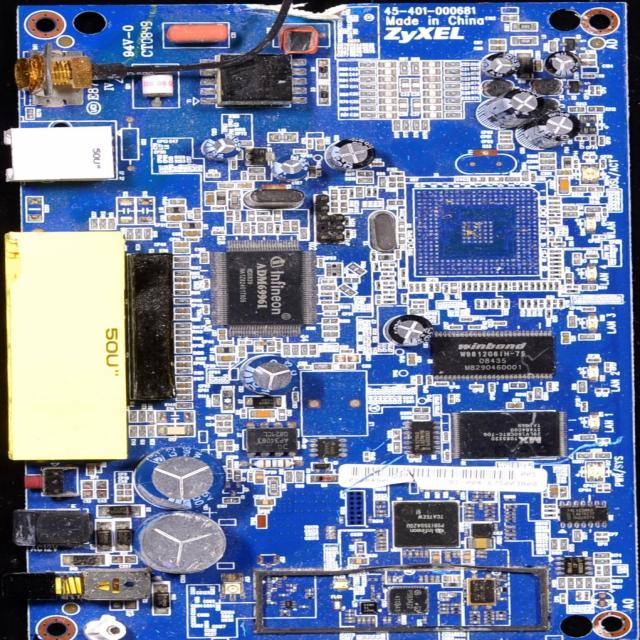Capacitor Jumper: (136, 444, 231, 509), (142, 512, 227, 573), (241, 356, 303, 398), (384, 312, 434, 348), (501, 89, 546, 121), (540, 112, 584, 136), (485, 51, 521, 77), (546, 52, 580, 77), (26, 197, 46, 224), (157, 411, 195, 424), (138, 197, 156, 224), (118, 197, 136, 224), (155, 425, 195, 436), (80, 479, 94, 499), (95, 479, 109, 498), (556, 177, 571, 194), (249, 409, 276, 418), (590, 164, 600, 185), (110, 556, 139, 563), (581, 164, 590, 185), (398, 97, 410, 111), (462, 550, 473, 565), (254, 470, 265, 484), (255, 499, 277, 506), (431, 550, 442, 564), (410, 97, 421, 111), (180, 230, 202, 237), (399, 61, 409, 76), (216, 355, 237, 362), (316, 234, 332, 243), (400, 79, 411, 92), (115, 496, 135, 503), (411, 61, 421, 75), (411, 77, 421, 91), (114, 489, 133, 496), (422, 104, 444, 110), (332, 221, 344, 232), (254, 341, 276, 347), (144, 227, 154, 240), (86, 462, 95, 476), (549, 484, 558, 498), (377, 98, 398, 104), (206, 191, 215, 205), (334, 354, 348, 363), (347, 354, 361, 363), (318, 222, 329, 233), (348, 558, 368, 564), (422, 62, 442, 68), (422, 68, 442, 74), (422, 76, 442, 82), (422, 90, 442, 96), (378, 90, 398, 96), (378, 112, 398, 118), (538, 159, 558, 165), (354, 186, 364, 198), (172, 307, 192, 313), (378, 76, 397, 82), (378, 83, 397, 89), (175, 388, 194, 394), (580, 53, 596, 60), (534, 59, 542, 73), (376, 105, 398, 110), (421, 112, 443, 117), (218, 328, 228, 339), (408, 354, 418, 365), (378, 62, 396, 68), (562, 332, 571, 344), (174, 361, 192, 367), (421, 98, 442, 103), (511, 382, 526, 389), (28, 107, 36, 120), (317, 195, 330, 203), (489, 45, 506, 51), (581, 60, 598, 66), (502, 15, 519, 21), (218, 183, 235, 189), (388, 200, 405, 206), (174, 278, 191, 284), (489, 39, 506, 45), (318, 213, 329, 222), (331, 215, 345, 222), (600, 158, 608, 170), (556, 170, 572, 176), (379, 176, 387, 188), (340, 188, 348, 200), (330, 201, 338, 213), (340, 202, 348, 214), (318, 204, 330, 212), (507, 402, 523, 408), (278, 408, 286, 420), (114, 484, 133, 489), (378, 69, 397, 74), (174, 383, 193, 388), (238, 182, 253, 188), (442, 574, 453, 582), (173, 242, 190, 247), (322, 305, 339, 310), (248, 210, 255, 222), (452, 574, 462, 582), (422, 84, 442, 88), (166, 216, 186, 220), (398, 234, 406, 244), (398, 221, 405, 232), (127, 229, 134, 240), (174, 342, 192, 346), (96, 463, 103, 473), (595, 532, 609, 537), (584, 590, 591, 600), (576, 591, 583, 601), (330, 190, 337, 200), (435, 283, 442, 293), (174, 284, 191, 288), (203, 304, 209, 315), (559, 594, 566, 603), (364, 451, 370, 461), (498, 134, 513, 138), (498, 139, 513, 143), (470, 385, 485, 389), (324, 536, 338, 540), (499, 130, 512, 134), (549, 196, 562, 200), (548, 201, 561, 205), (356, 616, 361, 626), (410, 282, 415, 292), (421, 283, 426, 293), (490, 382, 495, 392), (504, 533, 516, 537), (495, 614, 507, 618), (361, 616, 367, 624), (396, 616, 402, 624), (366, 616, 372, 624), (384, 263, 396, 267), (372, 616, 377, 625), (544, 504, 555, 508), (464, 514, 475, 518), (468, 611, 482, 614), (344, 620, 358, 623), (423, 616, 428, 624), (416, 283, 420, 293), (324, 532, 337, 535), (468, 621, 481, 624), (484, 503, 496, 506), (325, 526, 337, 529), (495, 617, 507, 620), (344, 620, 356, 623), (464, 511, 475, 514), (464, 518, 475, 521), (439, 607, 450, 610), (438, 611, 449, 614), (484, 518, 496, 520), (504, 526, 516, 528), (464, 507, 475, 509), (325, 529, 336, 531), (450, 604, 461, 606), (438, 604, 449, 606)
IC: (215, 246, 317, 336), (434, 332, 559, 380), (454, 409, 564, 456), (396, 502, 462, 546), (400, 419, 447, 457), (561, 501, 611, 528), (247, 428, 297, 454), (387, 586, 430, 613), (550, 556, 590, 576), (318, 438, 340, 457), (72, 554, 100, 566), (96, 529, 113, 548), (156, 592, 170, 608), (360, 601, 376, 614), (280, 600, 298, 608), (126, 601, 137, 610), (316, 464, 332, 469)
Resistor Jumper: (580, 114, 597, 134), (325, 263, 343, 278), (512, 22, 538, 31), (512, 36, 538, 45), (228, 190, 240, 209), (216, 345, 237, 354), (216, 190, 227, 206), (165, 206, 188, 213), (359, 112, 378, 119), (174, 376, 193, 383), (128, 425, 138, 438), (378, 254, 396, 261), (173, 262, 191, 269), (174, 347, 192, 354), (548, 40, 558, 52), (562, 156, 572, 168), (199, 252, 209, 264), (497, 143, 514, 150), (174, 270, 191, 277), (168, 198, 187, 204), (184, 223, 203, 229), (172, 298, 191, 304), (174, 334, 193, 340), (174, 368, 193, 374), (175, 402, 194, 408), (576, 453, 594, 459), (358, 69, 376, 75), (358, 76, 376, 82), (359, 84, 377, 90), (444, 90, 462, 96), (444, 98, 462, 104), (444, 105, 462, 111), (193, 208, 202, 220), (108, 218, 117, 230), (89, 218, 98, 230), (173, 256, 191, 262), (174, 290, 192, 296), (174, 314, 192, 320), (444, 68, 461, 74), (489, 176, 506, 182), (469, 176, 486, 182), (173, 248, 190, 254), (176, 395, 193, 401), (567, 577, 576, 588), (551, 539, 559, 551), (594, 576, 610, 582), (444, 61, 460, 67), (588, 106, 604, 112), (520, 170, 528, 182), (99, 218, 107, 230), (138, 411, 146, 423), (138, 426, 146, 438), (358, 62, 377, 67), (358, 91, 377, 96), (539, 153, 558, 158), (578, 435, 596, 440), (358, 98, 376, 103), (359, 105, 377, 110), (445, 113, 463, 118), (174, 323, 192, 328), (585, 578, 593, 589), (558, 578, 566, 589), (136, 229, 144, 240), (580, 382, 588, 393), (148, 425, 156, 436), (594, 584, 611, 589), (444, 76, 461, 81), (174, 329, 191, 334), (175, 356, 192, 361), (574, 530, 581, 542), (595, 552, 609, 558), (560, 539, 568, 549), (594, 559, 610, 564), (603, 565, 611, 575), (576, 578, 584, 588), (444, 83, 460, 88), (536, 388, 544, 398), (147, 411, 154, 422), (546, 270, 565, 274), (358, 171, 373, 176), (211, 230, 226, 235), (539, 166, 557, 170), (548, 262, 566, 266), (548, 266, 566, 270), (548, 275, 566, 279), (548, 280, 554, 292), (502, 280, 508, 292), (131, 410, 137, 422), (553, 280, 560, 290), (582, 285, 596, 290), (496, 299, 503, 309), (356, 178, 373, 182), (518, 280, 524, 291), (542, 280, 548, 291), (466, 281, 472, 292), (485, 281, 491, 292), (548, 254, 564, 258), (502, 300, 510, 308), (531, 299, 538, 308), (482, 299, 489, 308), (545, 299, 552, 308), (598, 135, 604, 145), (506, 177, 521, 181), (166, 223, 181, 227), (549, 258, 564, 262), (536, 281, 542, 291), (497, 280, 502, 292), (472, 282, 478, 292), (596, 453, 610, 457), (543, 513, 557, 517), (548, 204, 562, 208), (479, 281, 484, 292), (521, 298, 526, 309), (204, 279, 210, 288), (460, 282, 466, 291), (525, 300, 531, 309), (582, 75, 595, 79), (506, 504, 518, 508), (504, 508, 516, 512), (484, 510, 496, 514), (505, 529, 517, 533), (483, 610, 495, 614), (483, 617, 495, 621), (382, 616, 388, 624), (530, 173, 536, 181), (186, 238, 198, 242), (531, 280, 535, 292), (490, 300, 496, 308), (429, 283, 434, 292), (559, 299, 564, 308), (540, 299, 545, 308), (469, 614, 480, 618), (381, 277, 395, 280), (570, 107, 578, 112), (373, 188, 378, 196), (366, 188, 371, 196), (547, 310, 552, 318), (483, 514, 496, 517), (504, 516, 517, 519), (504, 519, 517, 522), (381, 268, 394, 271), (484, 507, 496, 510), (544, 510, 556, 513), (344, 617, 356, 620), (350, 189, 354, 198), (549, 210, 561, 213), (476, 299, 480, 308), (464, 503, 475, 506), (505, 512, 516, 515), (495, 611, 506, 614), (450, 611, 461, 614), (374, 263, 378, 271), (451, 607, 461, 610), (484, 614, 494, 617), (504, 538, 518, 540), (388, 617, 392, 624), (576, 136, 581, 141), (584, 136, 589, 141), (483, 622, 495, 624), (469, 618, 480, 620), (280, 614, 290, 616), (567, 290, 576, 292), (591, 136, 595, 140), (592, 141, 596, 145)
